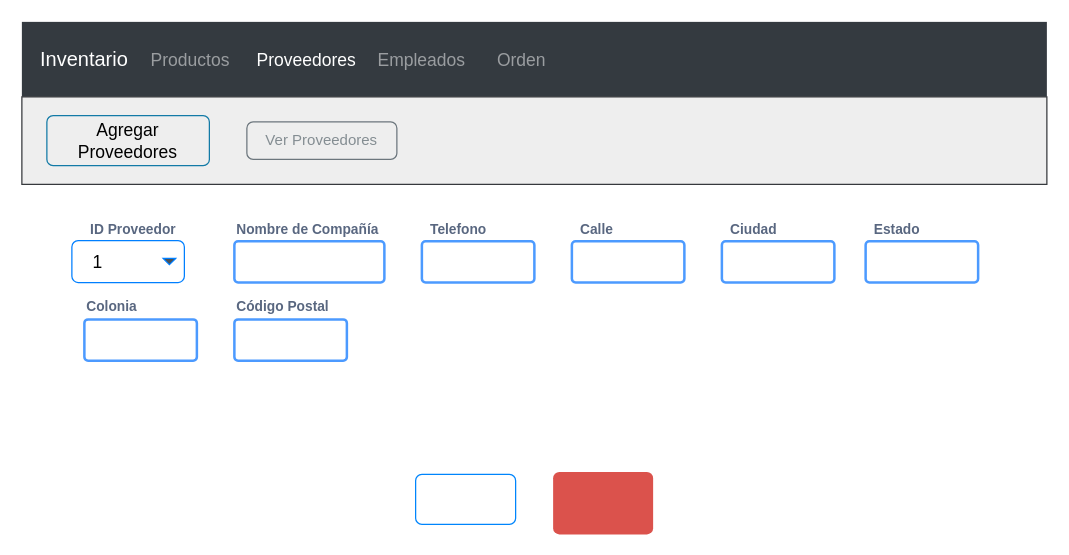
The diagram is 1069 pixels wide and 555 high, and some of its shapes have lost their labels. Here are the shapes that lost their labels. From the top down, the centre of each, then its label:
At point (465, 498): "Agregar".
At point (602, 502): "Cancelar".
